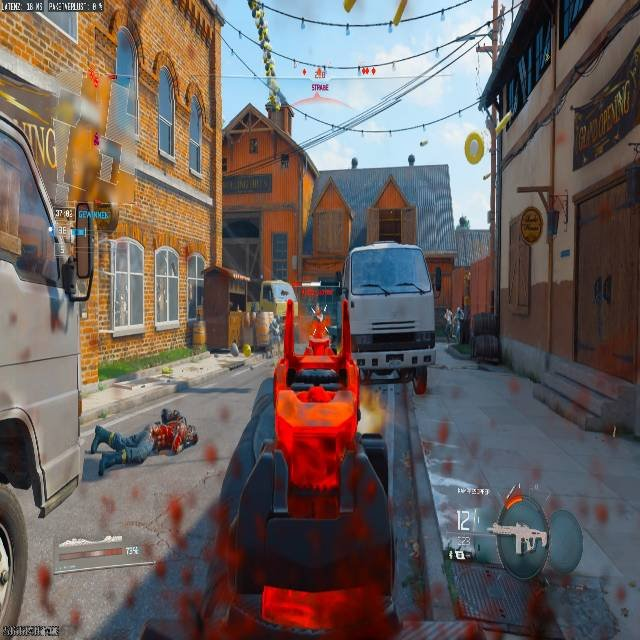head: (180, 425, 198, 450), (160, 407, 180, 424)
player: (308, 301, 332, 355), (268, 313, 282, 345)
